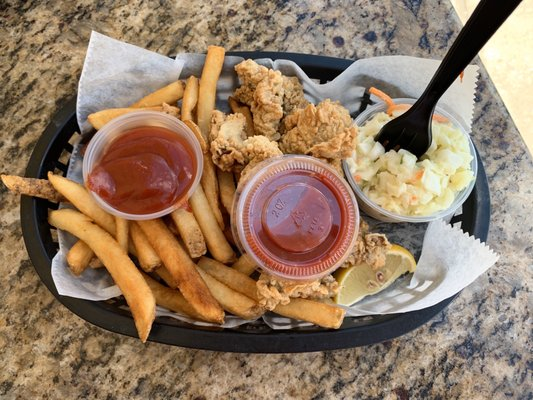salad: (370, 0, 524, 159)
sushi: (232, 153, 361, 283), (341, 113, 478, 224), (82, 109, 204, 223)
